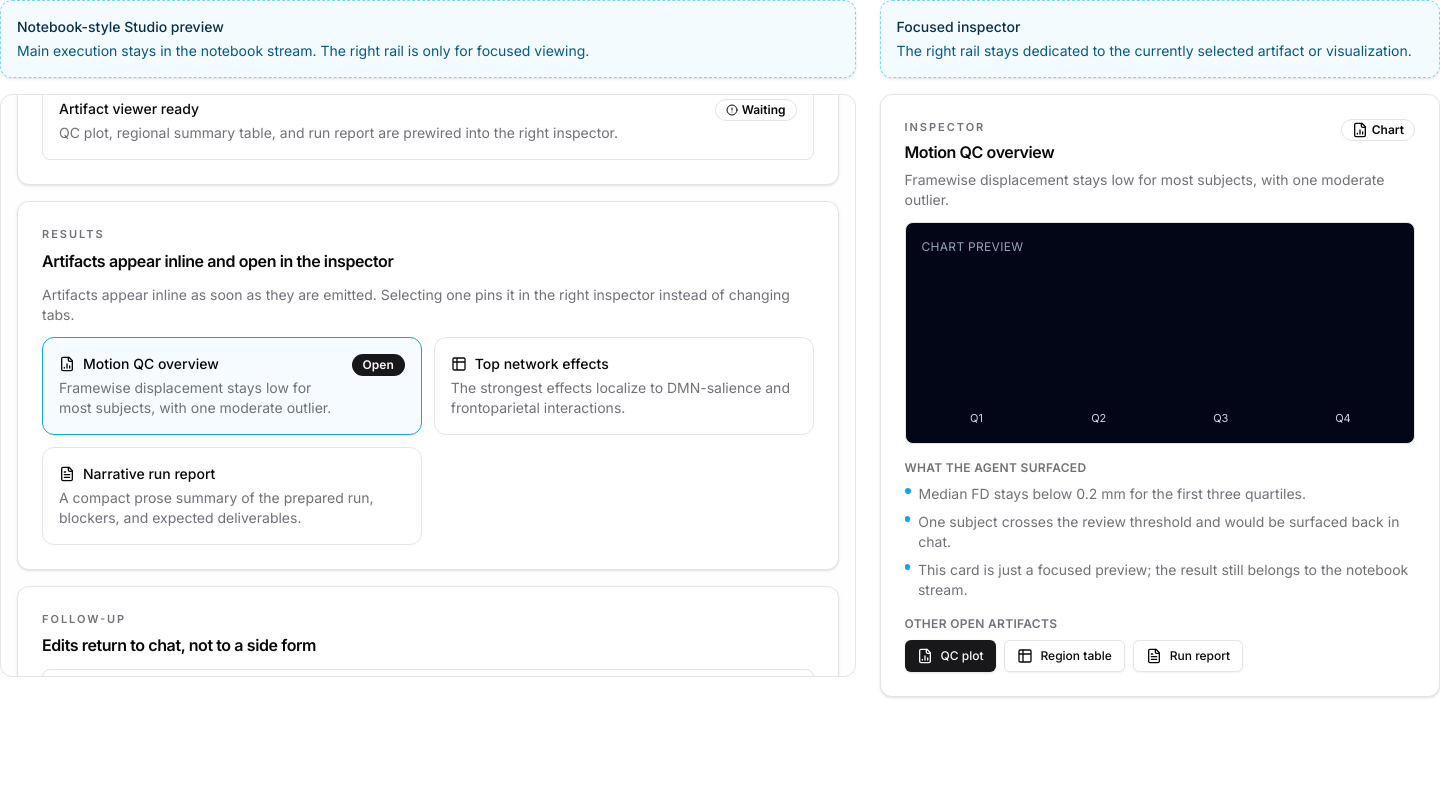
StudioPlanPanelExample › updates the right inspector when a different artifact is selected from the notebook stream
The width and height of the screenshot is (1440, 810).
(page scrolled)
Expected: the heading "Motion QC overview" is shown, x1=904 y1=140 x2=1054 y2=164
Expected: the text "Posterior cingulate to insula coupling is the highest-ranked effect." is not shown
Click the button "Top network effects": [624, 386] box x1=434 y1=336 x2=814 y2=434
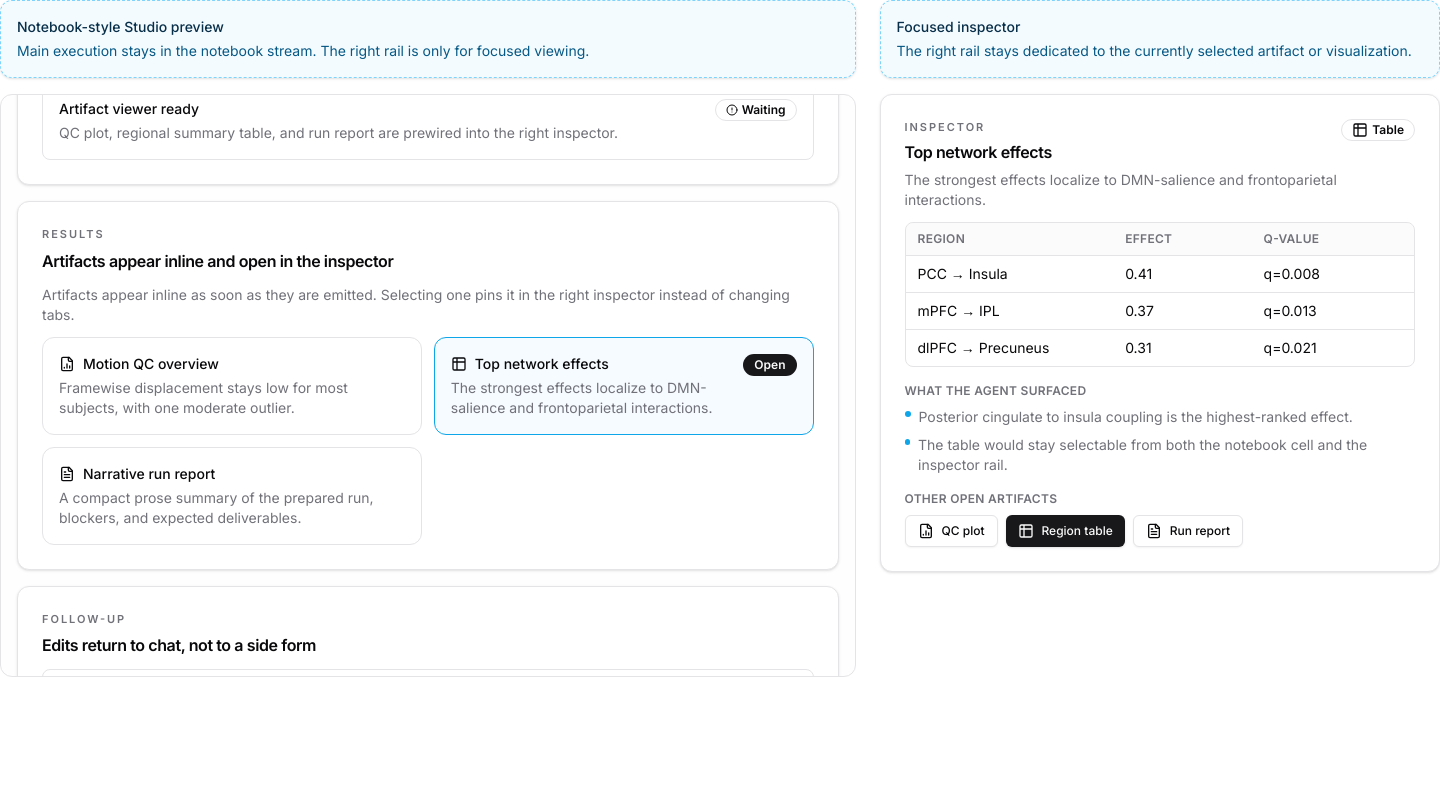
Result: the heading "Top network effects" is shown at x1=904 y1=140 x2=1052 y2=164
Result: the text "Posterior cingulate to insula coupling is the highest-ranked effect." is shown at x1=918 y1=406 x2=1353 y2=426
